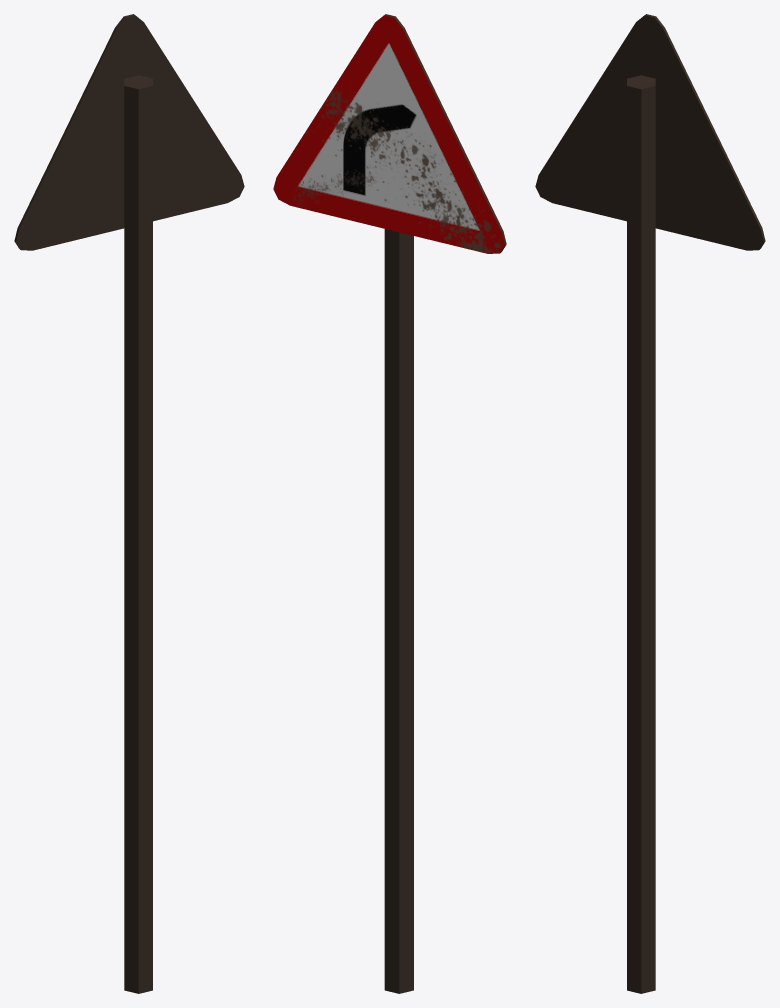
The model's file is TriangleSignModel.fbx.
3 views of the same model, side by side, from view 1: azimuth 30°, elevation 25°; view 2: azimuth 150°, elevation 25°; view 3: azimuth 330°, elevation 25° (orthographic).
Visible parts, largest first — view 1: TriangleSign; view 2: TriangleSign; view 3: TriangleSign.
Part boxes in pixels (x1=…): TriangleSign: x1=14, y1=14, x2=244, y2=993; TriangleSign: x1=273, y1=14, x2=506, y2=993; TriangleSign: x1=535, y1=14, x2=765, y2=993.
Size of the model in its own units: 1.59 by 6.4 by 0.2077.
Materials: 1 (1 with a texture image).
